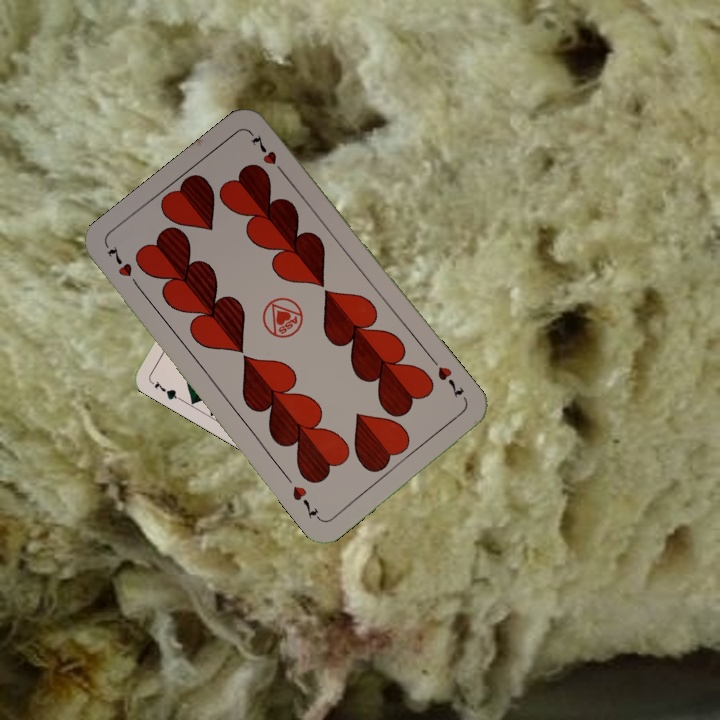G7: (146, 376, 182, 402)
H7: (103, 242, 144, 293), (433, 362, 467, 401)
